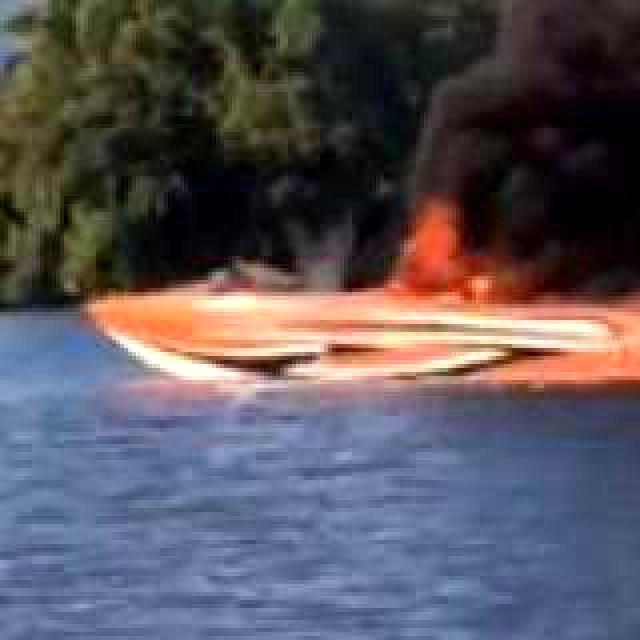smoke: (426, 0, 640, 284)
